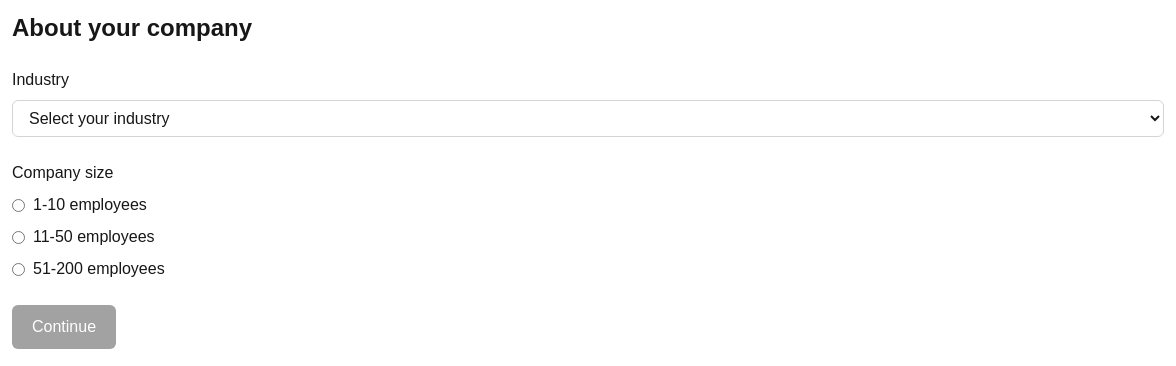
it: DiagnosticFlow › starts with the company step and requires industry and size
expect the button "Continue" is disabled: met, box [12,305,116,349]
Select "Healthcare" in the dropdown labelled "Industry" at coordinates (588, 118), box [12,100,1164,137]
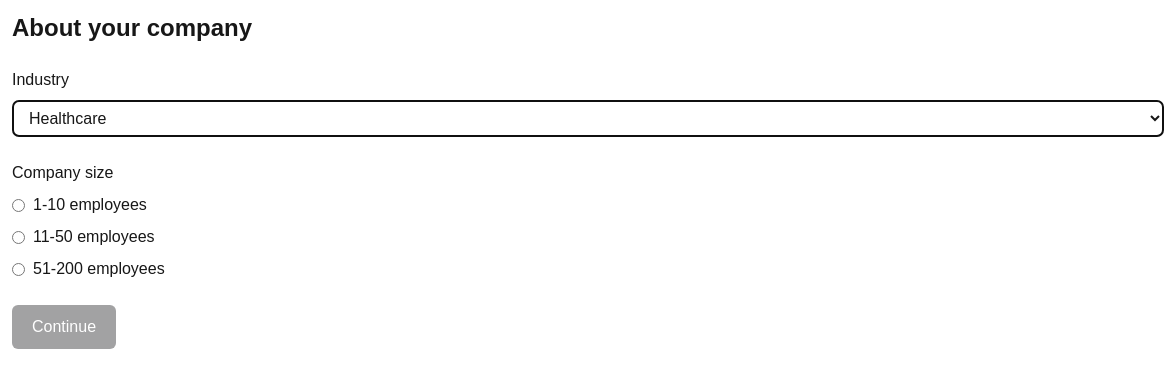
expect the button "Continue" is disabled: met, box [12,305,116,349]
Click the radio button labelled "1-10 employees" at coordinates (18, 205), box [12,198,25,212]
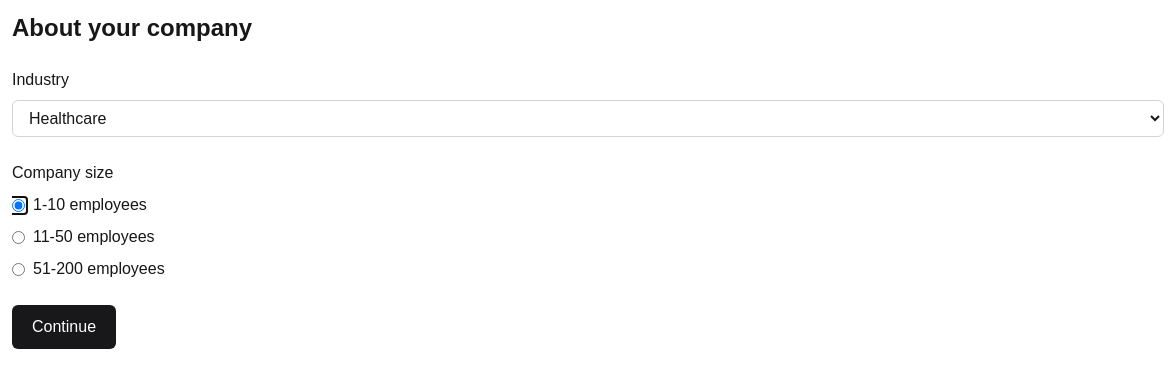
expect the button "Continue" is enabled: met, box [12,305,116,349]
